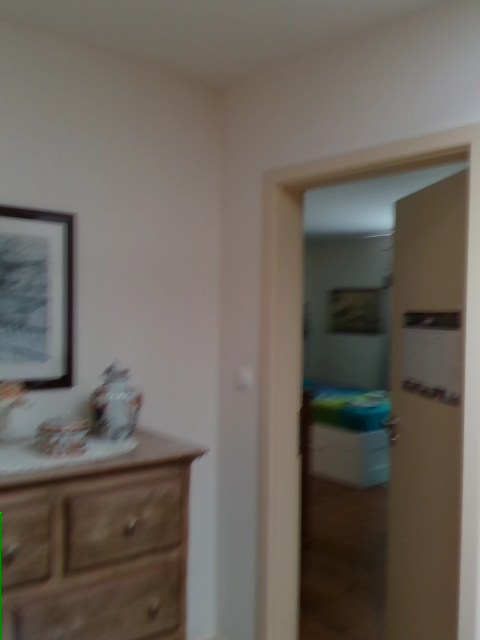semi: (256, 119, 479, 639)
